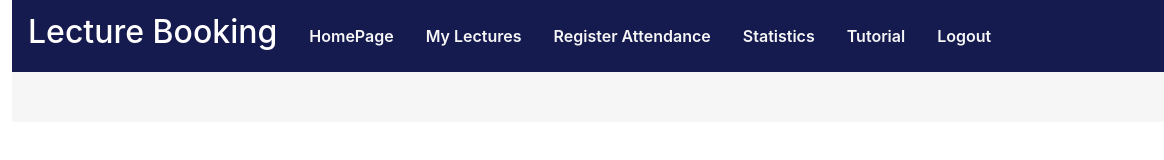
Test: Check Register Attendance
Click the link "Register Attendance" at (632, 36), box [554, 26, 711, 46]
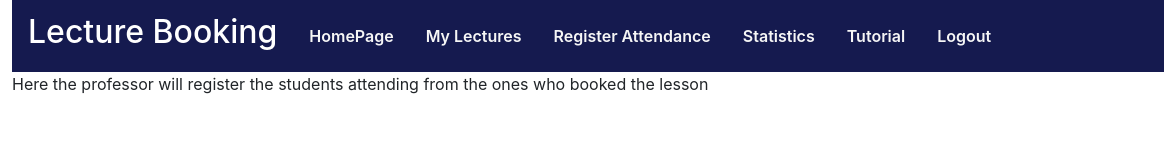
Check: the text "Here the professor will register the students attending from the ones who booked the lesson" is shown, box [12, 74, 708, 94]
